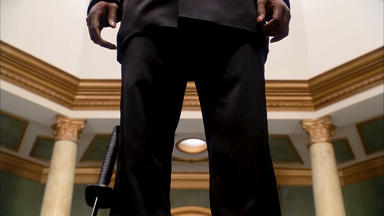bladed_weapon: (83, 124, 120, 215)
